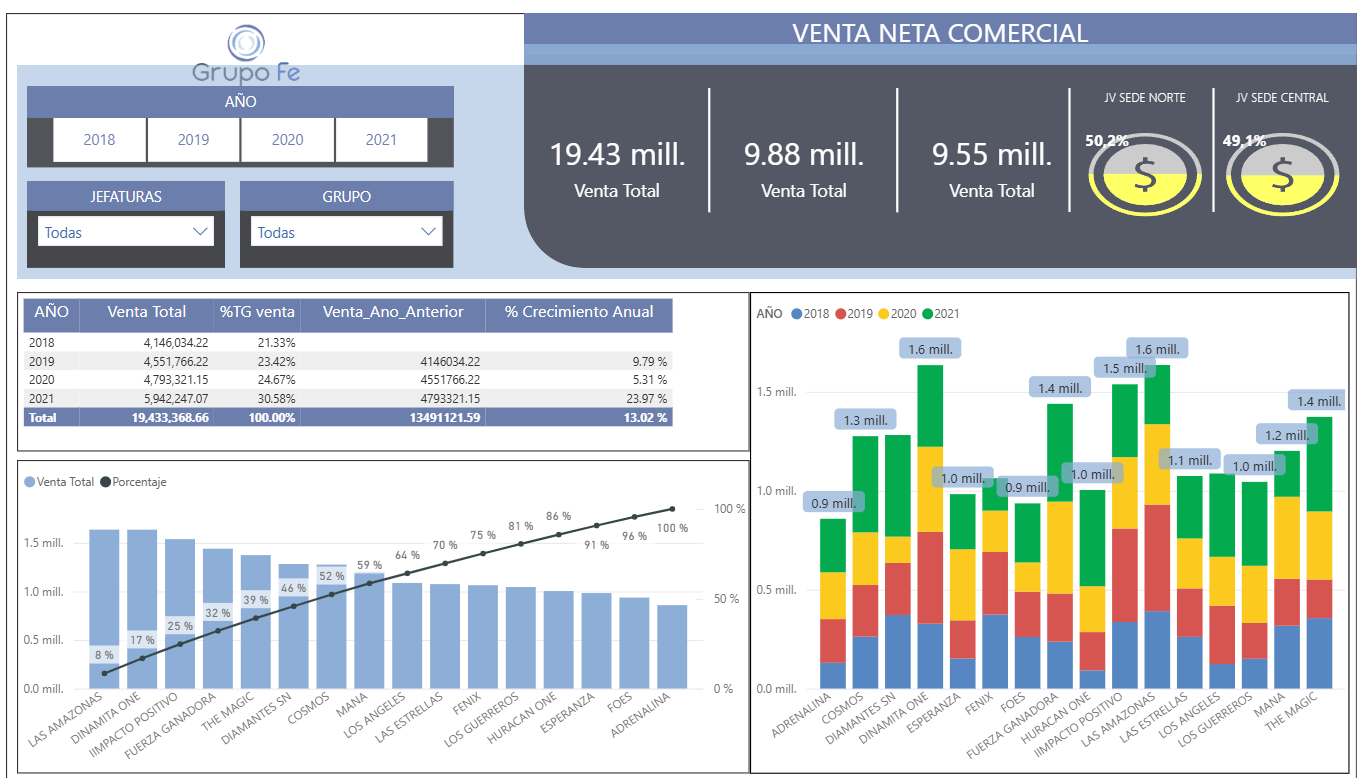

What the dashboard file says about the page in this screenshot:
{"tool":"powerbi","page":{"name":"Measure Binding","canvas":[1280,720],"ordinal":4},"visuals":[{"type":"shape","box":[40,9.1,1228.2,698.2],"z":0},{"type":"image","box":[87.3,8.2,330,75.5],"z":1000},{"type":"shape","box":[50,56.4,1218.2,194.5],"z":2000},{"type":"shape","title":"VENTA NETA COMERCIAL","box":[510.9,9.1,757.3,231.8],"z":3000},{"type":"PBI_CV_73744D90_4DC9_4F18_8BA5_EE8FA5C98035","fields":{"Values":["Sum(Tabla1.venta)"],"Columns":["Tabla1.Jefatura"]},"box":[1008,70,260,155],"z":4000},{"type":"pivotTable","fields":{"Rows":["data.AÑO"],"Values":["data.Venta Total","Divide(Sum(data.venta), ScopedEval(Sum(data.venta), []))","data.Venta_Ano_Anterior","data.% Crecimiento Anual"]},"box":[50,262.7,666.4,144.5],"z":5000},{"type":"lineStackedColumnComboChart","fields":{"Category":["data.Grupo"],"Y":["data.TOTAL_ING"],"Y2":["data.ing_s/total"]},"box":[50,415.5,666.4,285.5],"z":6000},{"type":"lineStackedColumnComboChart","fields":{"Y":["data.TOTAL_ING"],"Series":["data.AÑO"],"Category":["data.Grupo"]},"box":[716.4,262.7,545.5,438.2],"z":7000},{"type":"slicer","title":"AÑO","fields":{"Values":["data.AÑO"]},"box":[59.1,75.5,388.2,73.6],"z":8000},{"type":"slicer","title":"JEFATURAS","fields":{"Values":["data.Jefatura"]},"box":[59.1,161.4,180,79],"z":9000},{"type":"slicer","title":"GRUPO","fields":{"Values":["data.Grupo"]},"box":[253.1,161.4,194,79],"z":10000},{"type":"card","fields":{"Values":["data.Venta Total"]},"box":[515,70,160,155],"z":11000},{"type":"card","fields":{"Values":["data.Venta Total"]},"box":[685,70,160,155],"z":12000},{"type":"card","fields":{"Values":["data.Venta Total"]},"box":[856,70,160,155],"z":13000},{"type":"shape","box":[511,37,757,19],"z":14000},{"type":"shape","box":[662,77,35,113],"z":15000},{"type":"shape","box":[833,77,35,113],"z":16000},{"type":"shape","box":[989.1,77.3,35.5,112.7],"z":17000},{"type":"shape","box":[1120,77.3,35.5,112.7],"z":18000}]}

Visuals, with their boxes in screenshot pixels (x1, y1, x2, y2), scaled from the page's 1280x720 canvas onto the 1360x778 screenshot:
shape: {"x1": 42, "y1": 10, "x2": 1347, "y2": 764}
image: {"x1": 93, "y1": 9, "x2": 443, "y2": 90}
shape: {"x1": 53, "y1": 61, "x2": 1347, "y2": 271}
"VENTA NETA COMERCIAL" shape: {"x1": 543, "y1": 10, "x2": 1347, "y2": 260}
PBI_CV_73744D90_4DC9_4F18_8BA5_EE8FA5C98035 - Sum(Tabla1.venta) x Tabla1.Jefatura: {"x1": 1071, "y1": 76, "x2": 1347, "y2": 243}
pivotTable - data.AÑO x data.Venta Total: {"x1": 53, "y1": 284, "x2": 761, "y2": 440}
lineStackedColumnComboChart - data.Grupo x data.TOTAL_ING: {"x1": 53, "y1": 449, "x2": 761, "y2": 757}
lineStackedColumnComboChart - data.TOTAL_ING x data.AÑO: {"x1": 761, "y1": 284, "x2": 1341, "y2": 757}
"AÑO" slicer: {"x1": 63, "y1": 82, "x2": 475, "y2": 161}
"JEFATURAS" slicer: {"x1": 63, "y1": 174, "x2": 254, "y2": 260}
"GRUPO" slicer: {"x1": 269, "y1": 174, "x2": 475, "y2": 260}
card - data.Venta Total: {"x1": 547, "y1": 76, "x2": 717, "y2": 243}
card - data.Venta Total: {"x1": 728, "y1": 76, "x2": 898, "y2": 243}
card - data.Venta Total: {"x1": 910, "y1": 76, "x2": 1080, "y2": 243}
shape: {"x1": 543, "y1": 40, "x2": 1347, "y2": 61}
shape: {"x1": 703, "y1": 83, "x2": 741, "y2": 205}
shape: {"x1": 885, "y1": 83, "x2": 922, "y2": 205}
shape: {"x1": 1051, "y1": 84, "x2": 1089, "y2": 205}
shape: {"x1": 1190, "y1": 84, "x2": 1228, "y2": 205}
